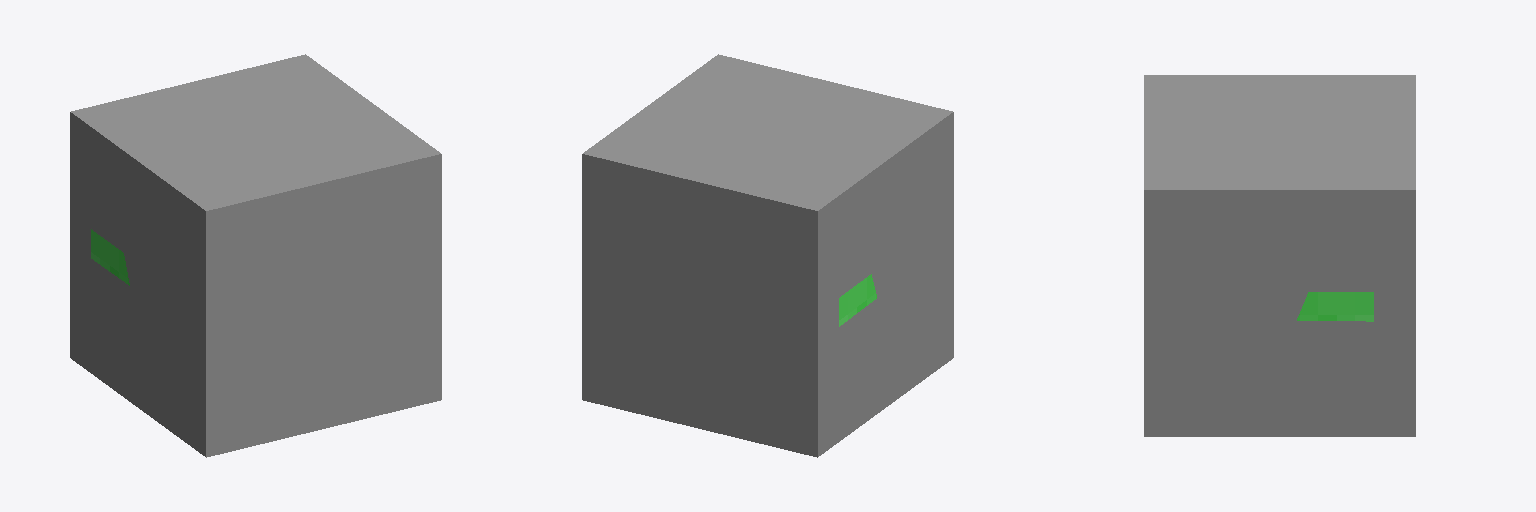
3 renders of one model, left to right at view 1: azimuth 30°, elevation 25°; view 2: azimuth 150°, elevation 25°; view 3: azimuth 270°, elevation 25°, orthographic.
Visible parts, largest first — view 1: Minecraft_Block_Cube.001, Cowl; view 2: Minecraft_Block_Cube.001, Cowl; view 3: Minecraft_Block_Cube.001, Cowl.
Part boxes in pixels (bbox=[...]): Minecraft_Block_Cube.001: bbox=[70, 54, 441, 457]; Cowl: bbox=[91, 229, 129, 285]; Minecraft_Block_Cube.001: bbox=[582, 54, 953, 457]; Cowl: bbox=[839, 274, 876, 326]; Minecraft_Block_Cube.001: bbox=[1144, 75, 1415, 436]; Cowl: bbox=[1297, 292, 1373, 321].
Size of the model in its own units: 1 by 1 by 1.
5 materials, 3 textured.